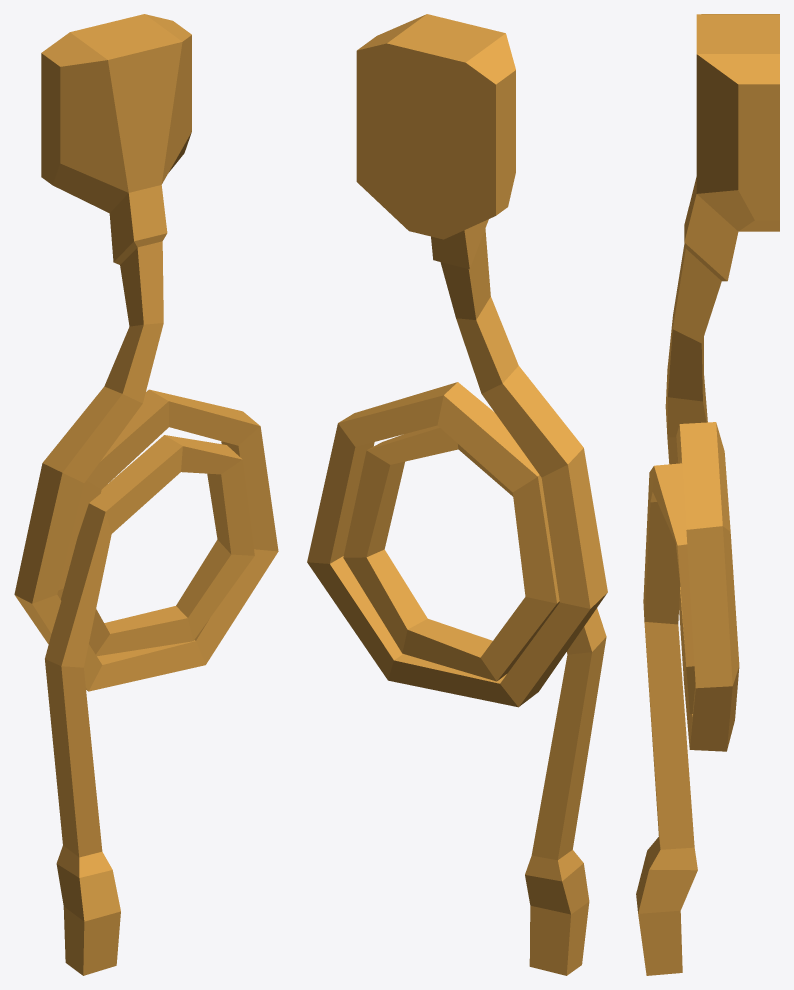
File: wallbox-hose.fbx
3 views of the same model, side by side, from view 1: azimuth 30°, elevation 25°; view 2: azimuth 150°, elevation 25°; view 3: azimuth 270°, elevation 25° (orthographic). The views are drawn at different scales.
Parts seen in each view (by area): view 1: wallbox-hose; view 2: wallbox-hose; view 3: wallbox-hose.
Part boxes in pixels (x1,y1,x2,y2): wallbox-hose: (14,14,278,975); wallbox-hose: (307,14,607,975); wallbox-hose: (636,14,779,975).
Bounding box in the file's own units: 0.3921 × 1.29 × 0.1727.
